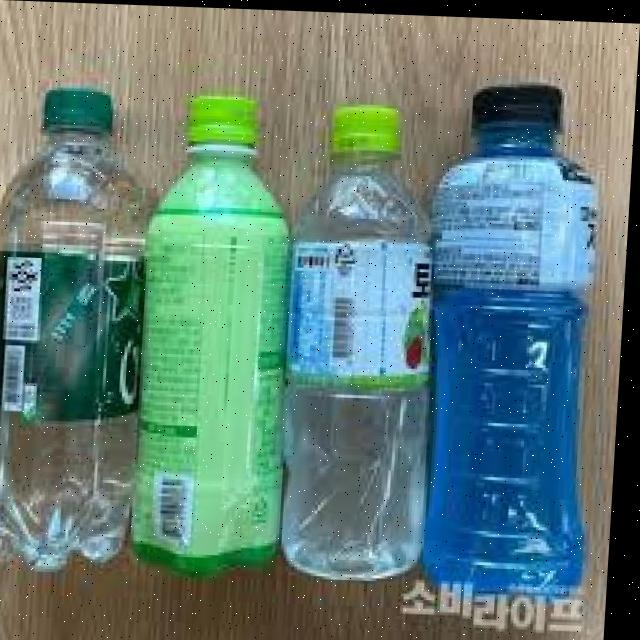bottle: (0, 68, 195, 562)
